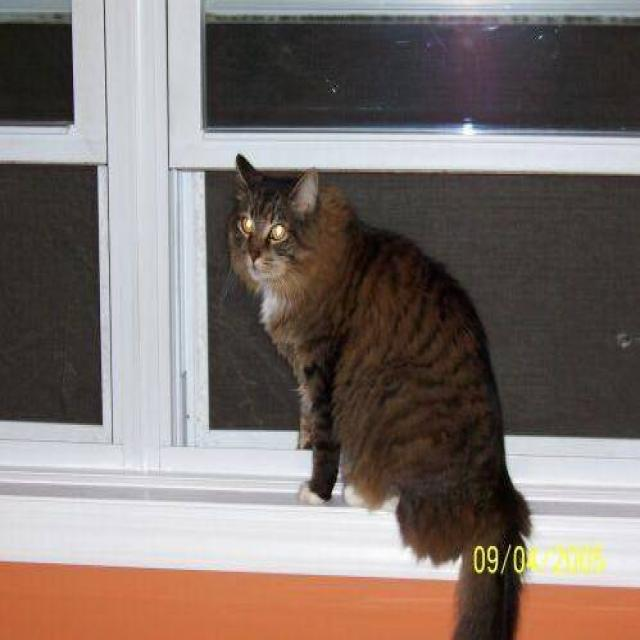cat: (222, 152, 532, 638)
